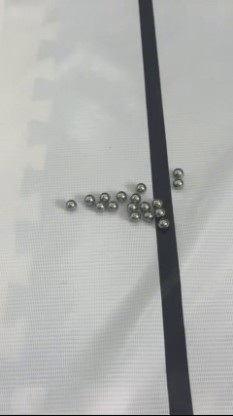ironball: (82, 190, 97, 206), (97, 191, 111, 205), (106, 197, 118, 213), (133, 181, 148, 193), (140, 211, 156, 222), (63, 196, 76, 209), (170, 164, 182, 178), (138, 198, 150, 211), (151, 194, 164, 206), (155, 218, 170, 228), (172, 178, 183, 191), (128, 193, 139, 205), (124, 199, 135, 211), (131, 211, 143, 222), (92, 200, 104, 211), (116, 189, 125, 201), (153, 207, 162, 218)
